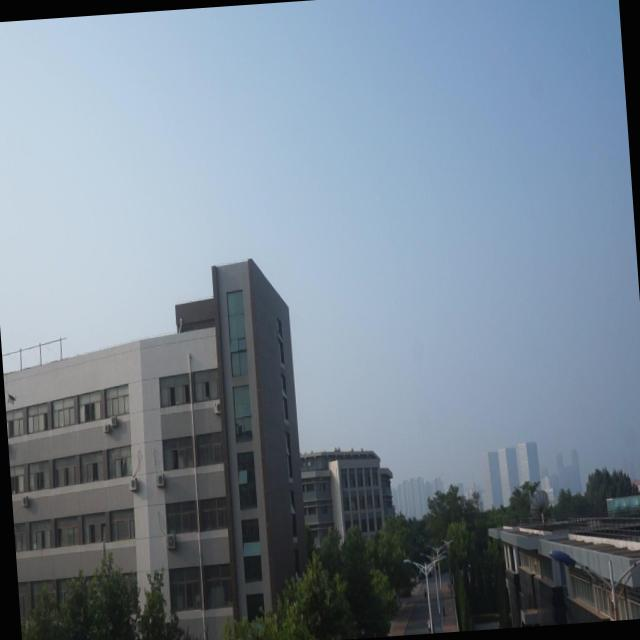drone: (4, 387, 18, 407)
